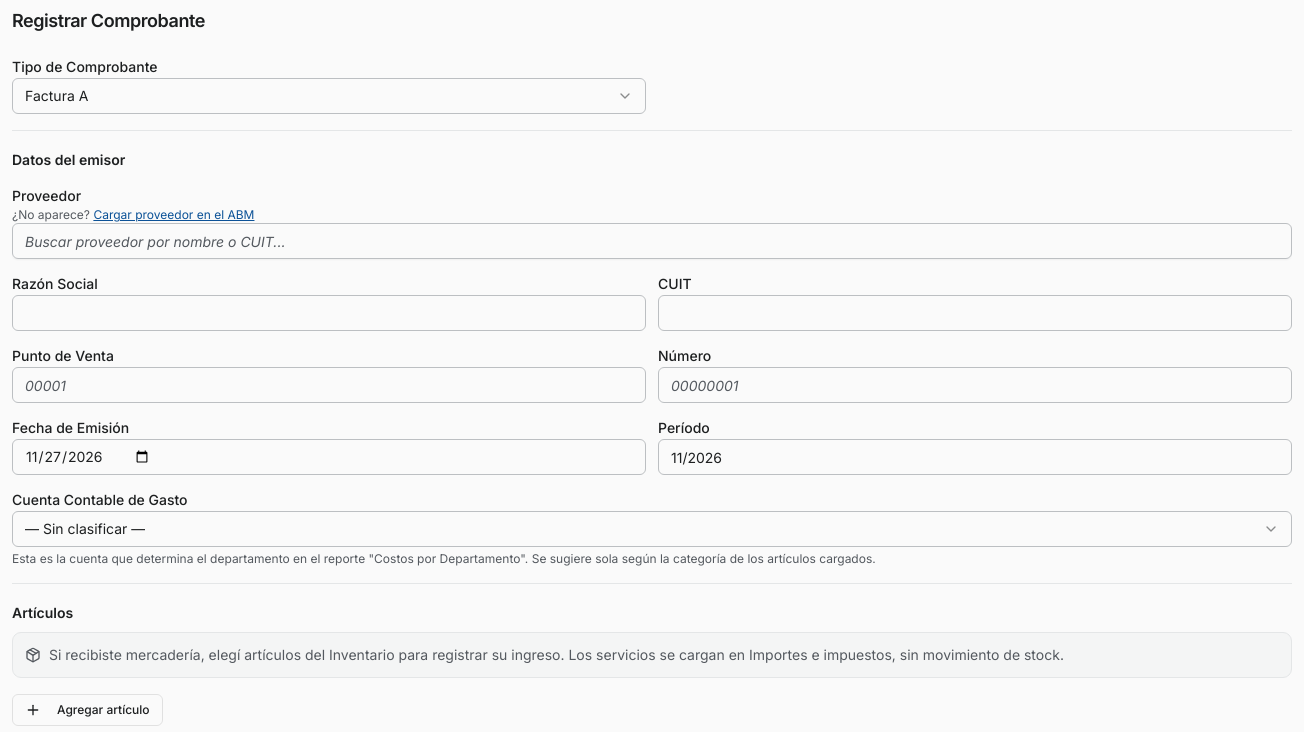
it: InvoiceDialog — sugerencia de letra por condición IVA › proveedor Responsable Inscripto sugiere la letra A
What coordinates should you click on to do the following:
click the dropdown with test id "select-tipo-comprobante"
I would click on:
 (57, 96)
Its box is [12, 78, 646, 114].
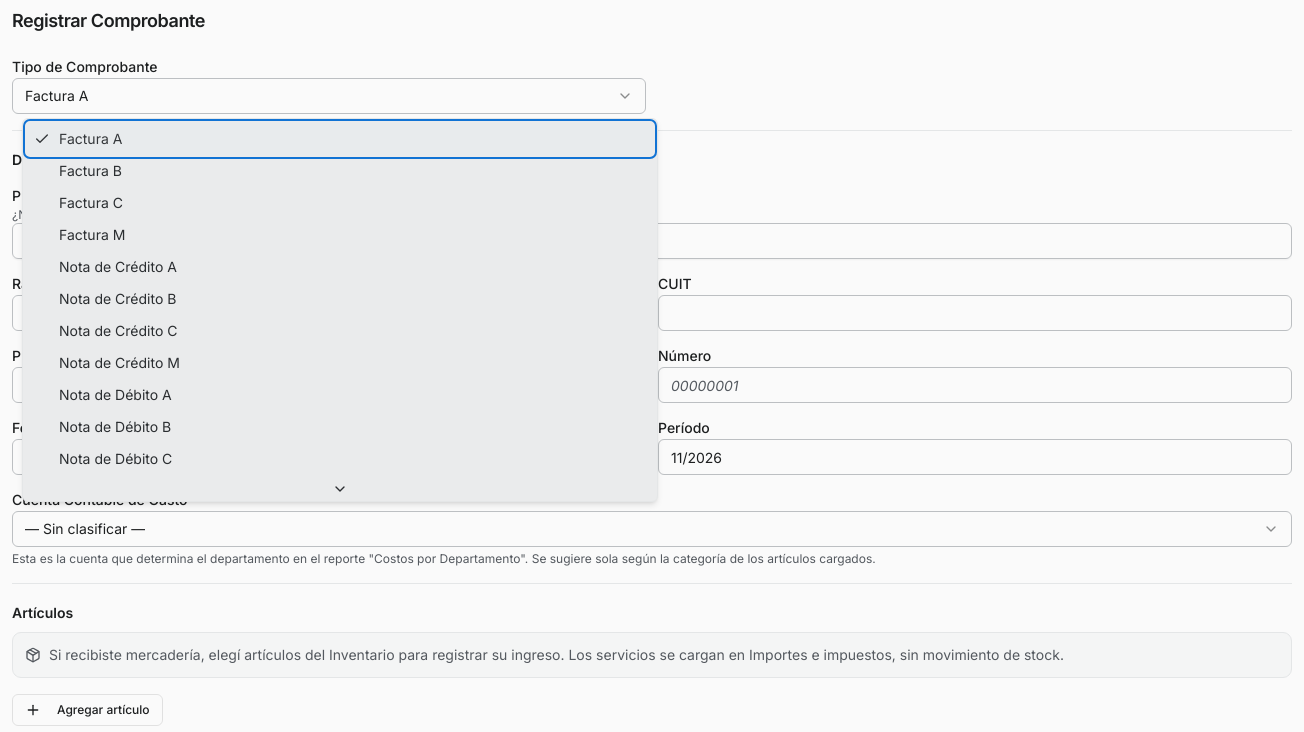
What coordinates should you click on to do the following:
click the option "Factura B"
I would click on:
 (90, 170)
Its box is [59, 162, 122, 179].
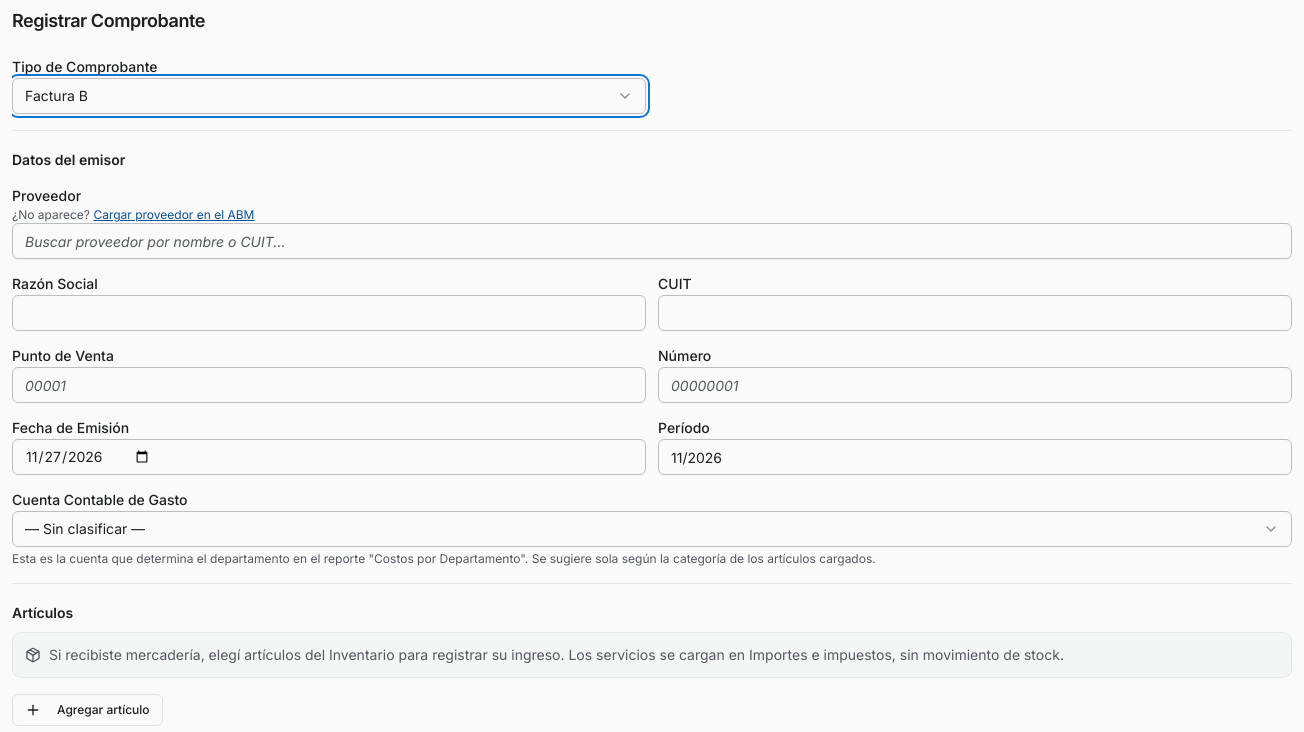
What coordinates should you click on to do the following:
click the field with test id "select-supplier"
I would click on:
 (652, 241)
Its box is [12, 223, 1292, 259].
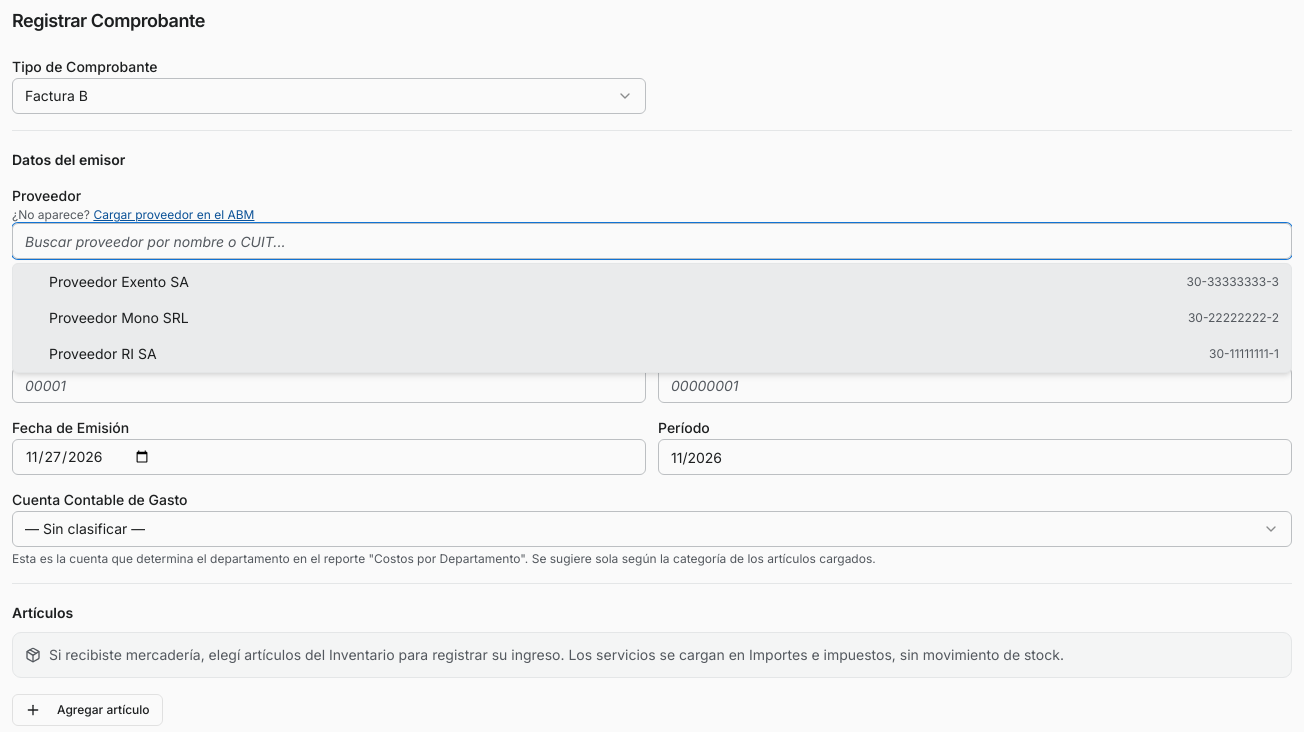
What coordinates should you click on to do the following:
click the text "Proveedor RI SA"
I would click on:
 (103, 354)
Its box is [49, 344, 156, 364].
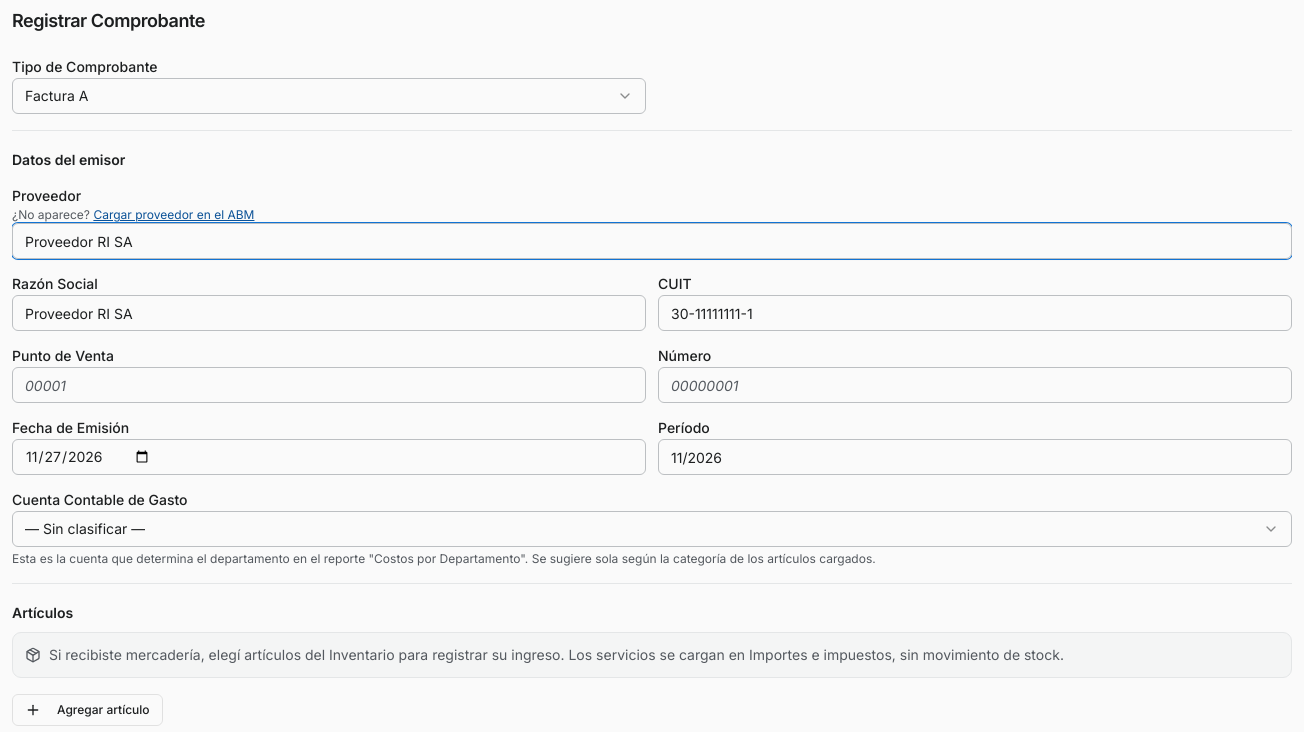
Now the dropdown with test id "select-tipo-comprobante" reads "Factura A", box [12, 78, 646, 114]
